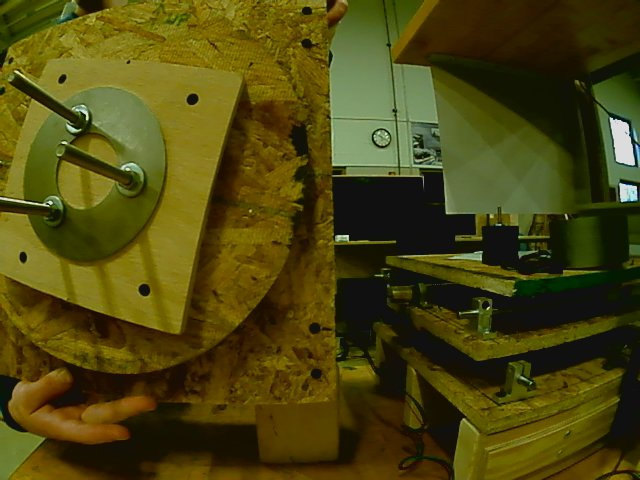bolt: (116, 161, 146, 200), (66, 104, 92, 136), (41, 195, 66, 228)
